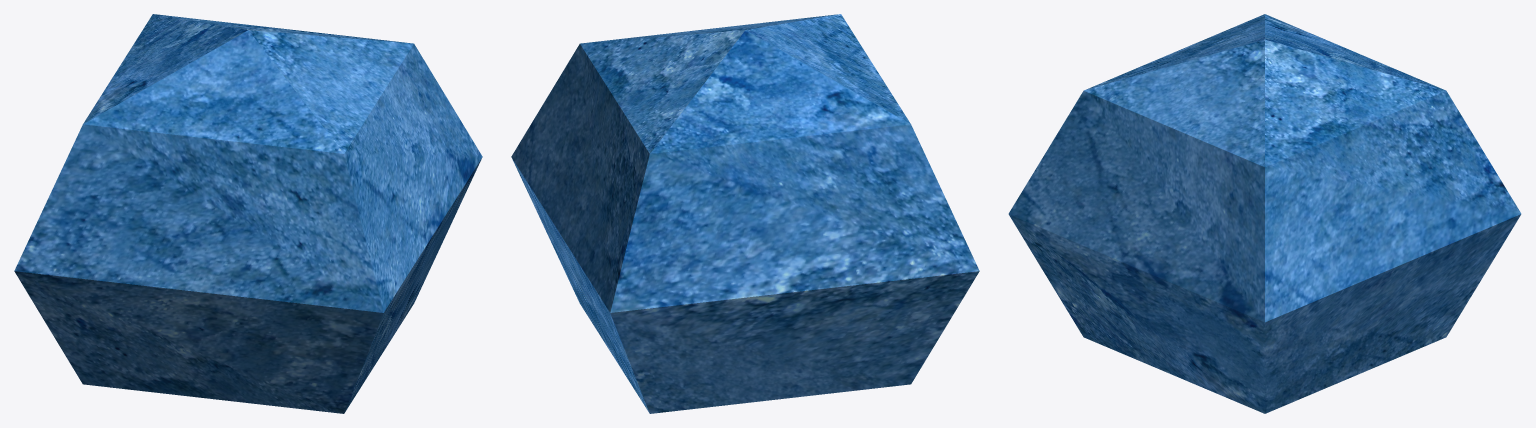
Rendered from blueStone1.obj.
3 renders of one model, left to right at view 1: azimuth 30°, elevation 25°; view 2: azimuth 150°, elevation 25°; view 3: azimuth 270°, elevation 25°, orthographic. The views are drawn at different scales.
Size of the model in its own units: 2 by 1.5 by 2.
1 material, 1 textured.
